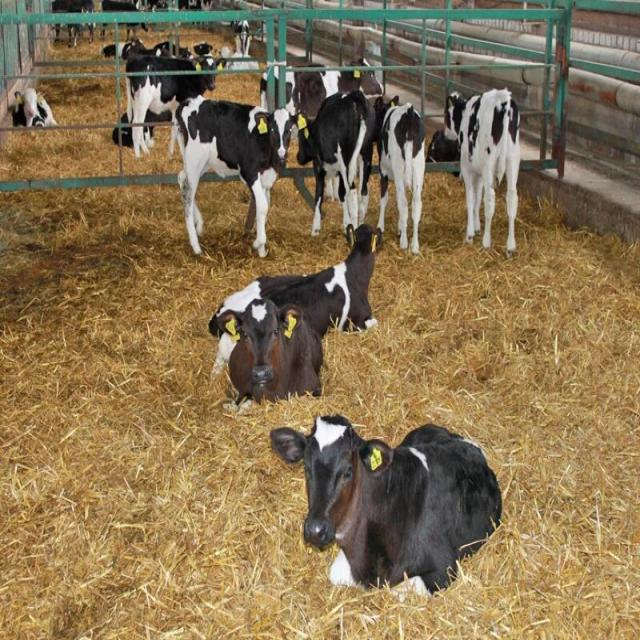cow: (269, 412, 502, 602), (207, 222, 382, 406), (169, 95, 301, 258), (442, 86, 521, 255), (208, 295, 323, 407), (294, 87, 376, 244), (122, 49, 220, 158), (372, 94, 427, 255), (49, 0, 95, 47), (8, 87, 58, 128), (98, 0, 148, 40)
